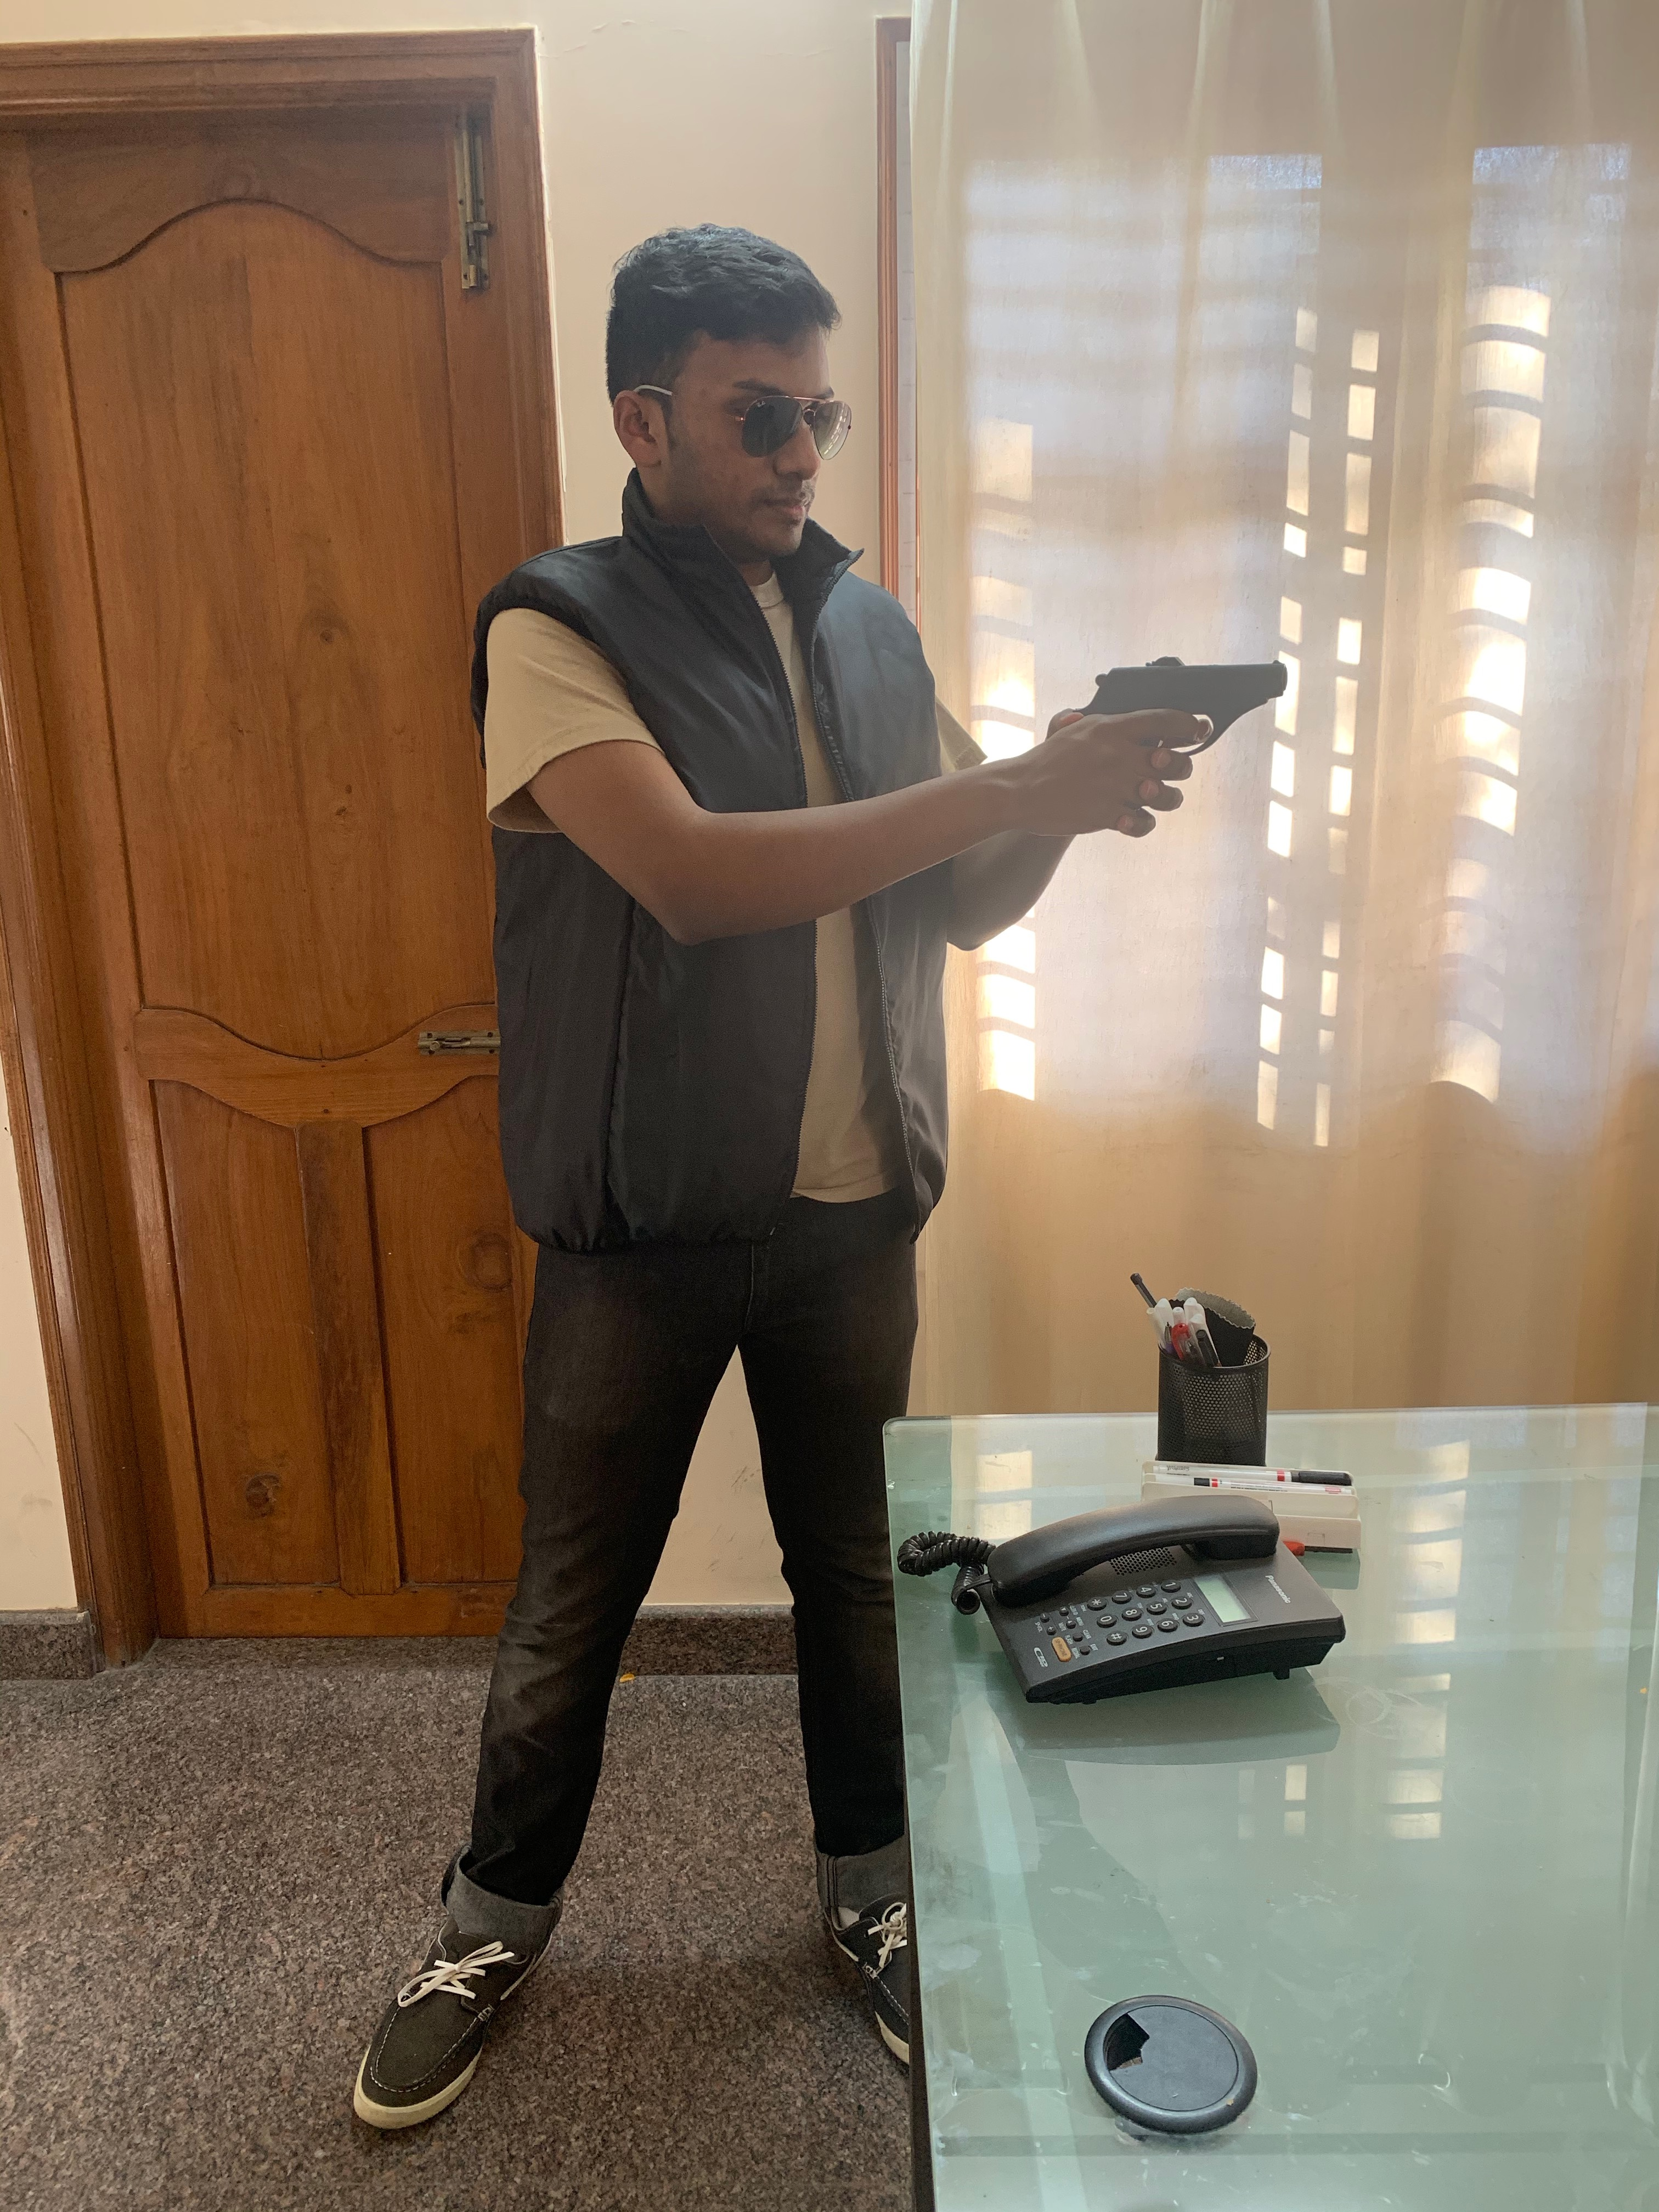gun: (1091, 655, 1295, 782)
